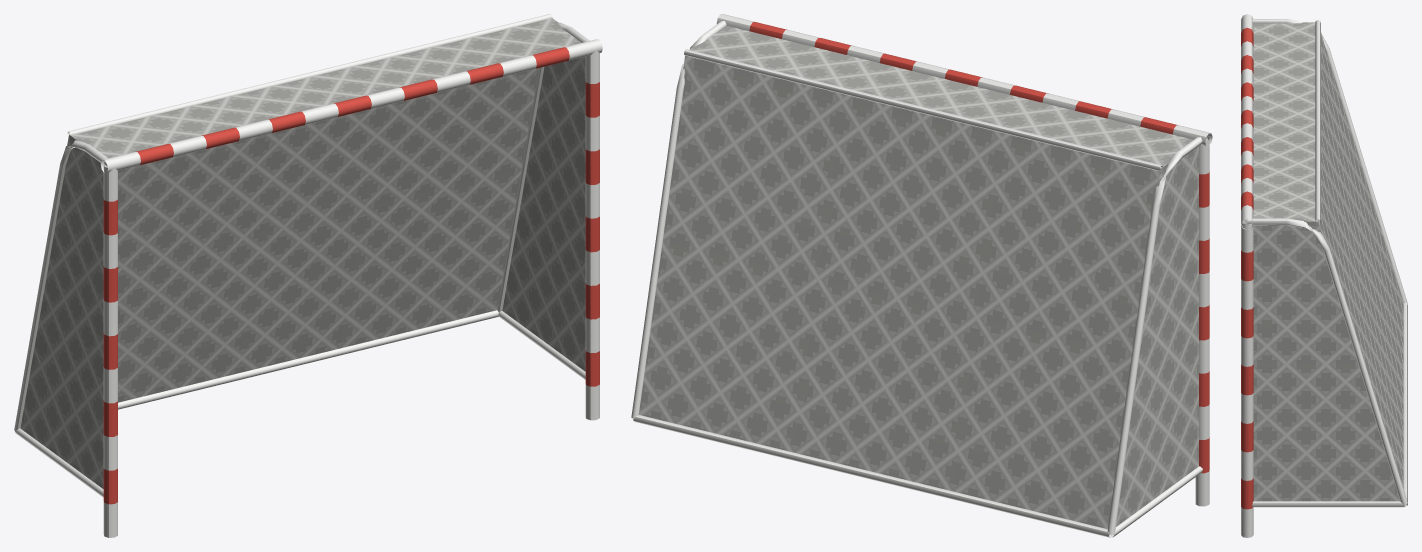
The model's file is handball-goal.glb.
The picture shows the model from 3 angles, left to right: view 1: azimuth 30°, elevation 25°; view 2: azimuth 150°, elevation 25°; view 3: azimuth 270°, elevation 25°; orthographic projection. The views are drawn at different scales.
Visible parts, largest first — view 1: handball-goal; view 2: handball-goal; view 3: handball-goal.
Part boxes in pixels (bbox=[...]): handball-goal: bbox=[14, 14, 602, 537]; handball-goal: bbox=[631, 14, 1212, 537]; handball-goal: bbox=[1241, 14, 1407, 537].
Bounding box in the file's own units: 3.08 × 2.24 × 1.06.
Materials: 3 (1 with a texture image).
